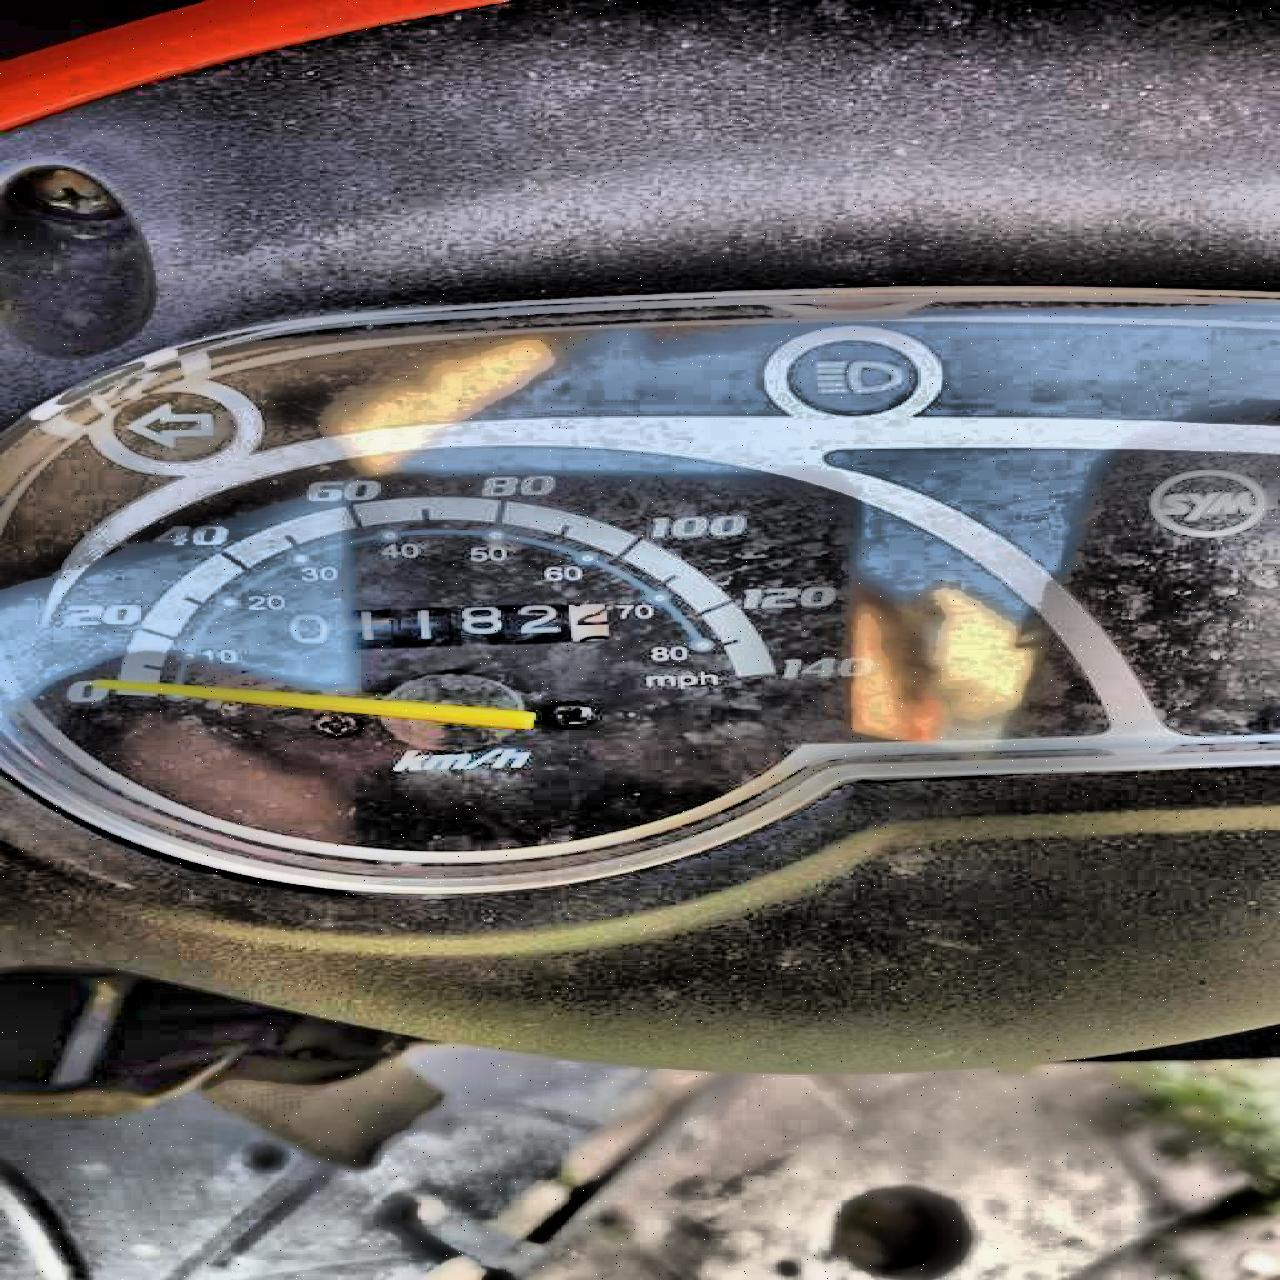0: (282, 611, 331, 644), (265, 599, 285, 610)
1: (404, 605, 437, 640), (349, 607, 380, 641)
2: (511, 602, 560, 635), (568, 600, 610, 626)
8: (456, 604, 502, 635)
odometer: (258, 598, 615, 655)
